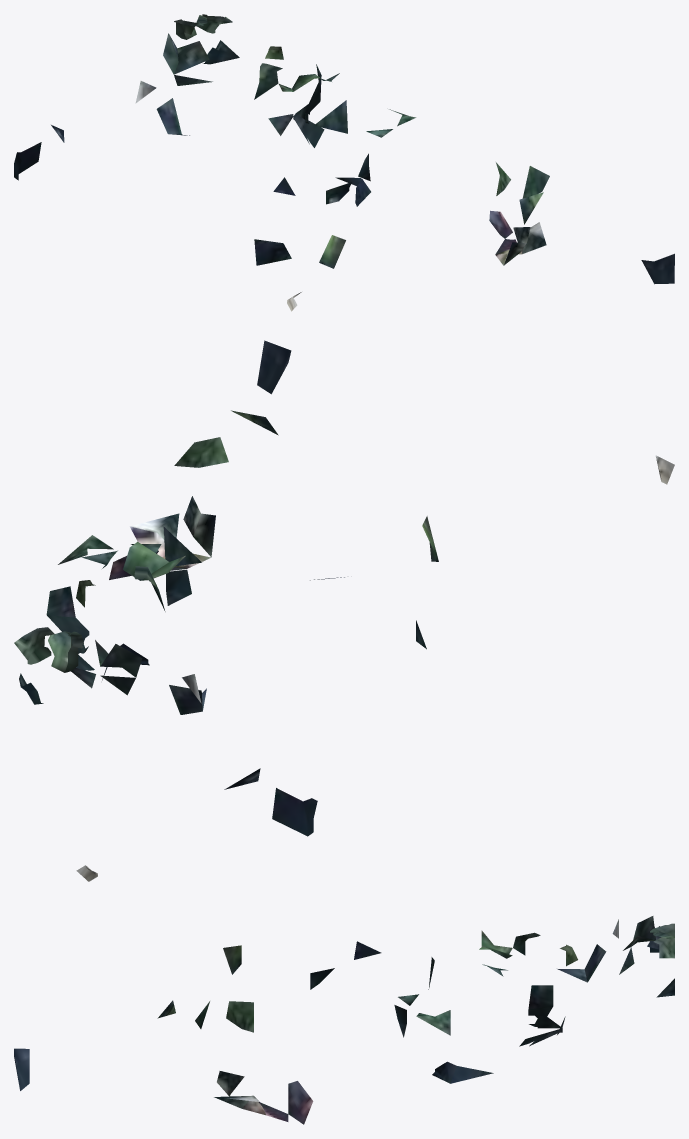
3 views of the same model, one above another, from view 1: azimuth 30°, elevation 25°; view 2: azimuth 150°, elevation 25°; view 3: azimuth 270°, elevation 25° (orthographic). The views are drawn at different scales.
Parts seen in each view (by area): view 1: 30436272704361524431_1; view 2: 30436272704361524431_1; view 3: 30436272704361524431_1.
Part boxes in pixels (x1=…): 30436272704361524431_1: x1=14, y1=14, x2=674, y2=311; 30436272704361524431_1: x1=14, y1=340, x2=674, y2=836; 30436272704361524431_1: x1=14, y1=865, x2=674, y2=1124.
Size of the model in its own units: 20.56 by 6.63 by 32.7.
Materials: 1 (1 with a texture image).
